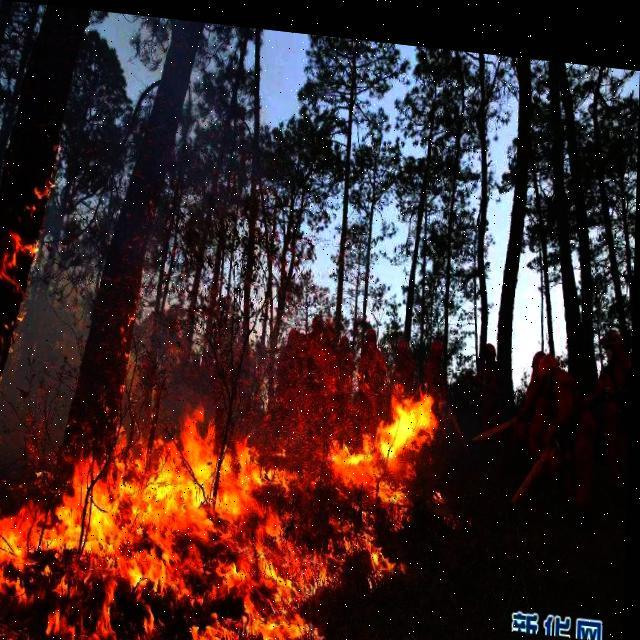Fire: (0, 183, 450, 639)
